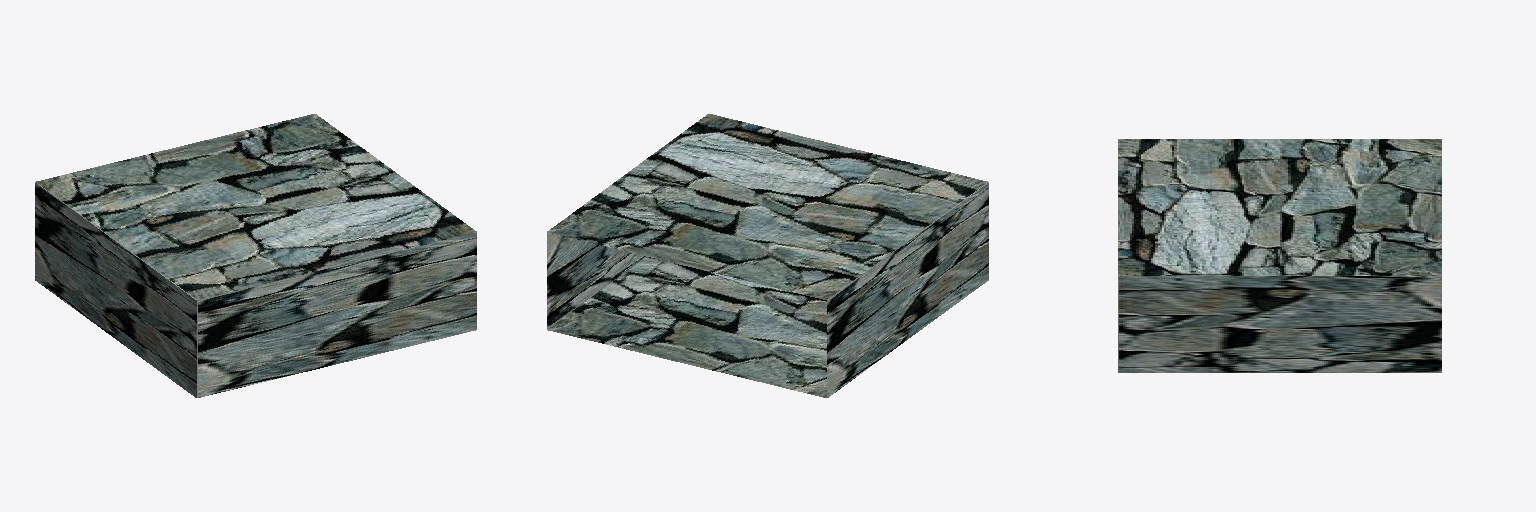
The picture shows the model from 3 angles: view 1: azimuth 30°, elevation 25°; view 2: azimuth 150°, elevation 25°; view 3: azimuth 270°, elevation 25°; orthographic projection.
Visible parts, largest first — view 1: Vertex_Object; view 2: Vertex_Object; view 3: Vertex_Object.
Boxes of the visible parts, x1,y1,x2,y2 form: Vertex_Object: [35, 114, 476, 397]; Vertex_Object: [547, 114, 988, 397]; Vertex_Object: [1118, 139, 1441, 372].
Bounding box in the file's own units: 72 × 24 × 72.
1 materials, 1 textured.